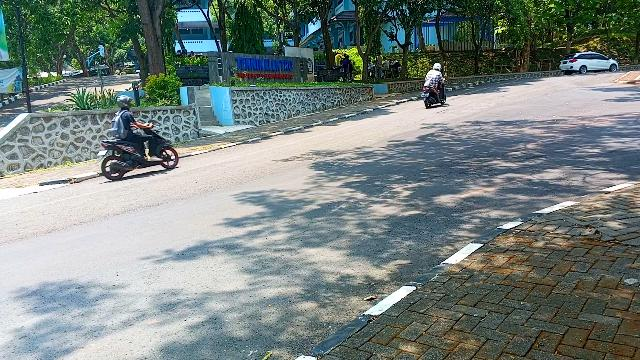helm: (118, 97, 134, 109), (435, 63, 442, 71)
motor: (99, 125, 180, 182), (423, 87, 447, 108)
